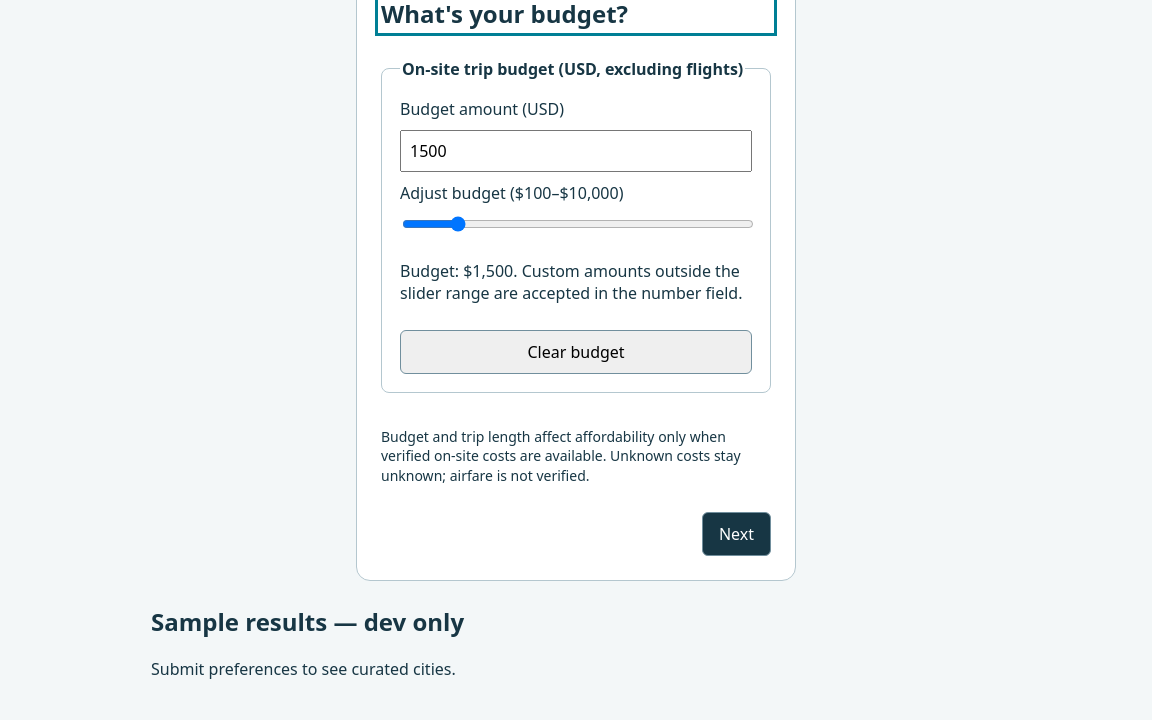
Test case: allows returning to an invalid later answer after navigating Back
(page scrolled)
Click the button "Next" at (736, 534), box [702,512,771,556]
(page scrolled)
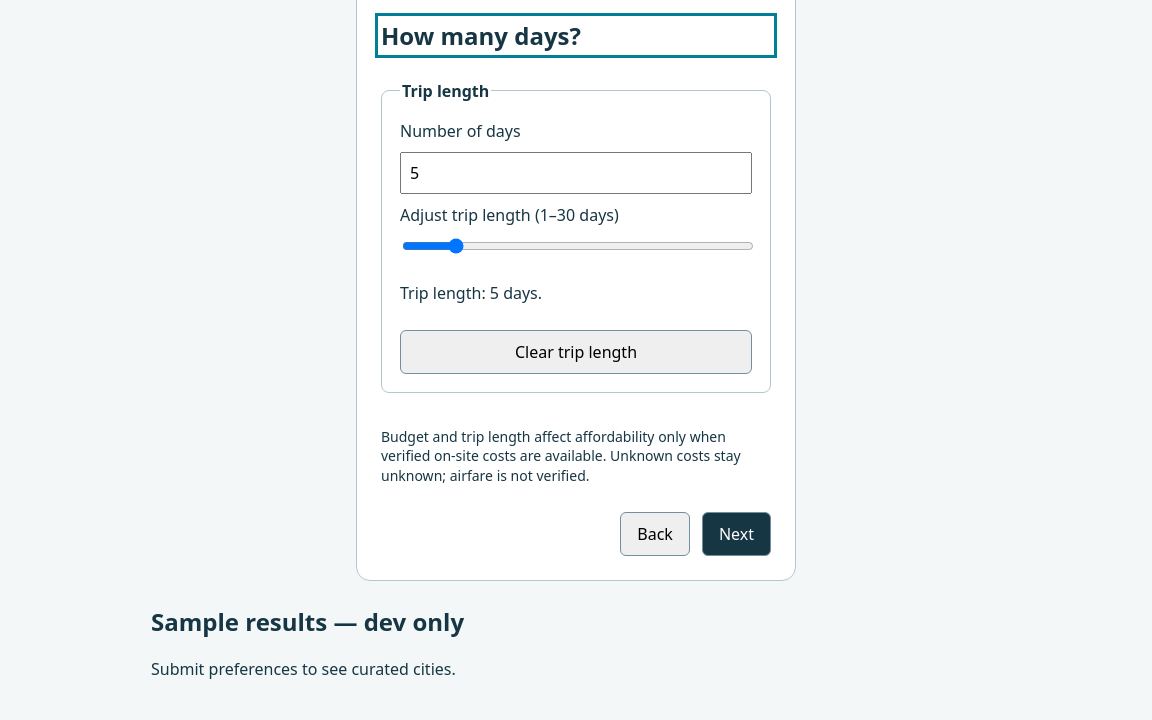
Replace the text in the number field labelled "Number of days" with "31" at (576, 173), box [400,152,752,194]
(page scrolled)
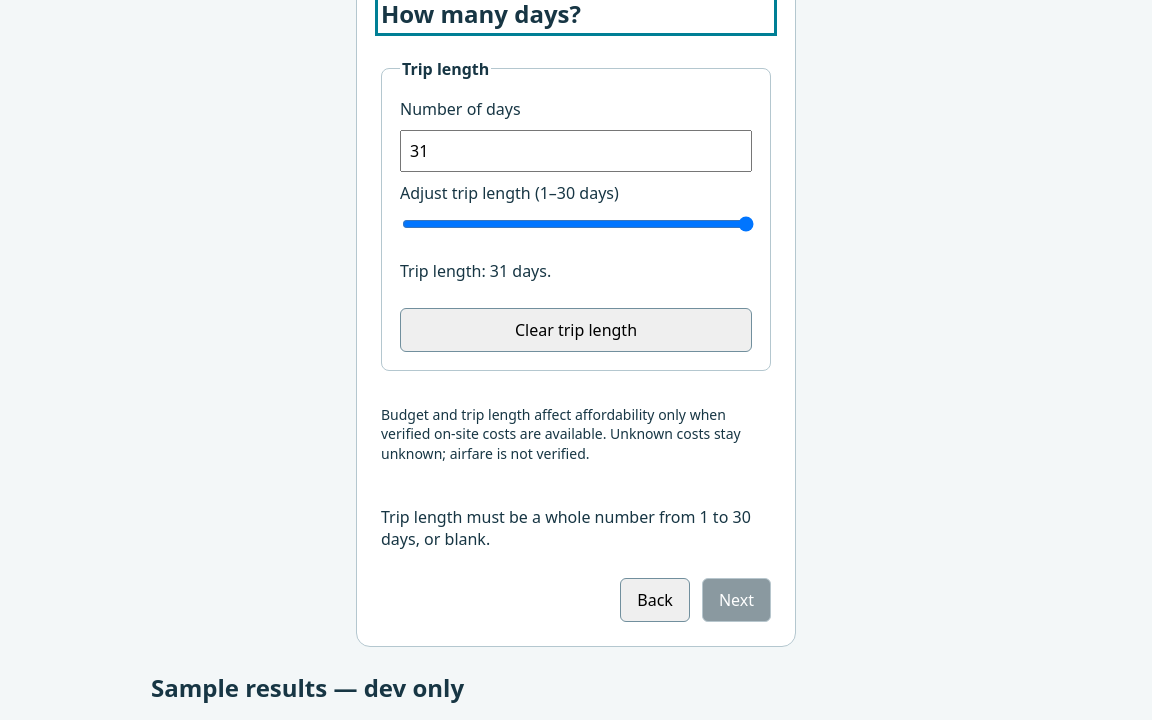
Click the button "Back" at (655, 600), box [620,578,690,622]
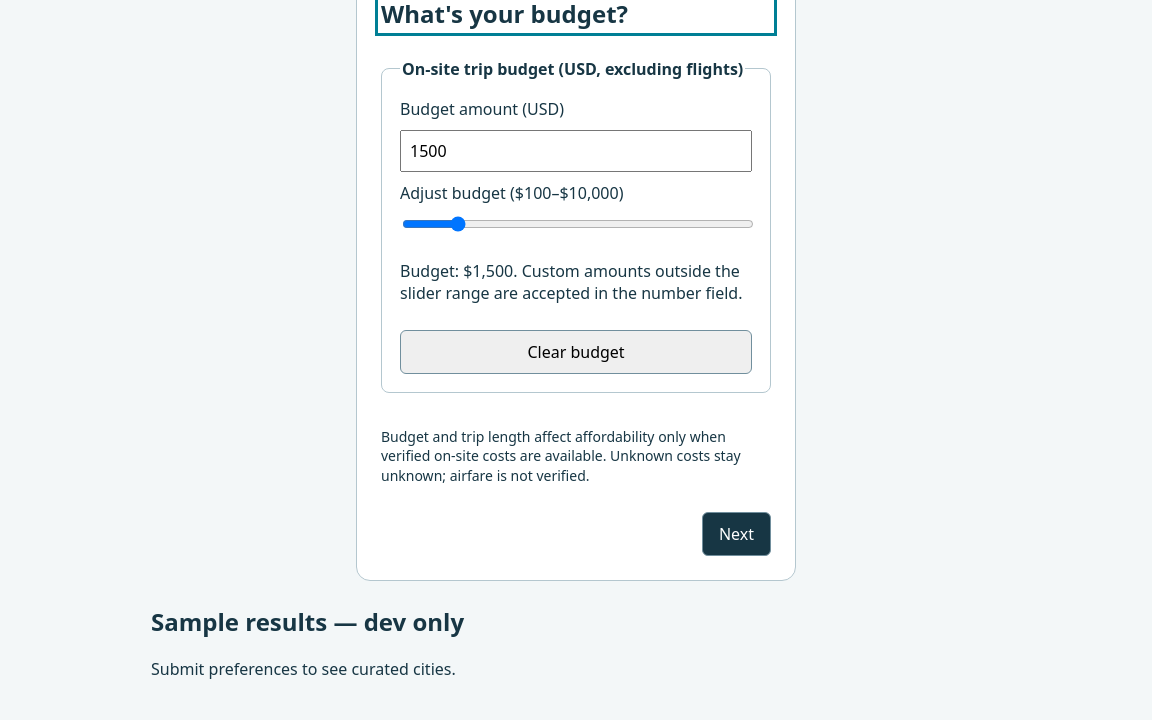
Click the button "Next" at (736, 534), box [702,512,771,556]
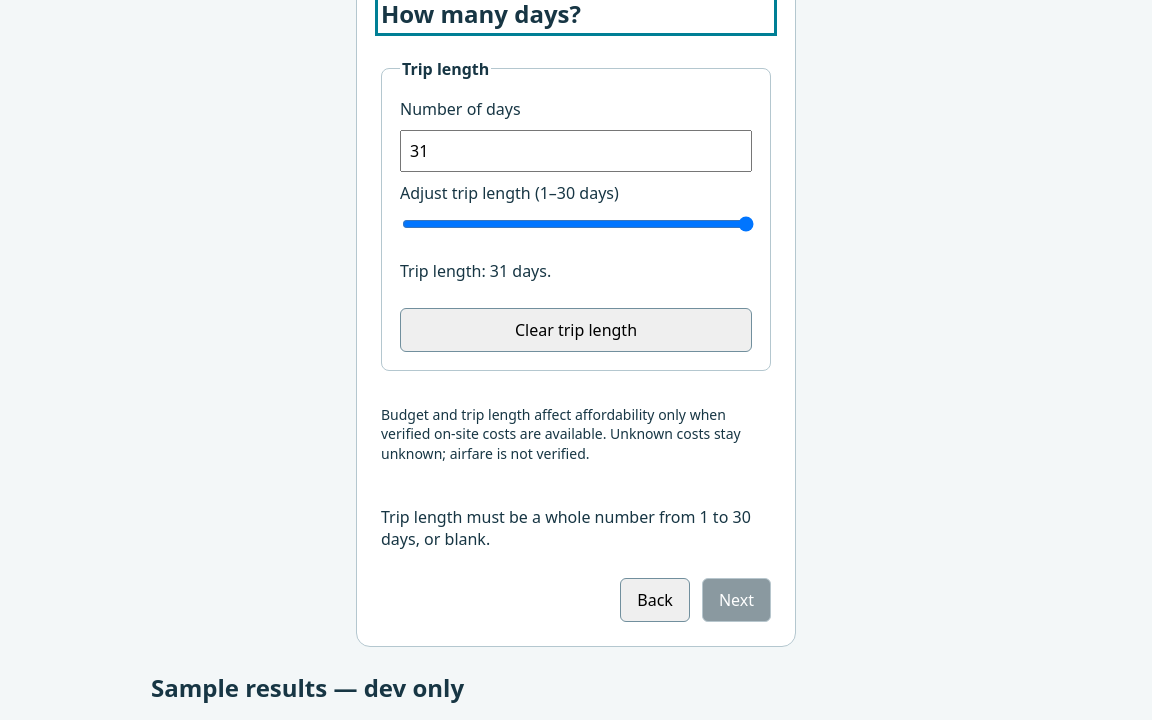
Replace the text in the number field labelled "Number of days" with "5" at (576, 151), box [400,130,752,172]
(page scrolled)
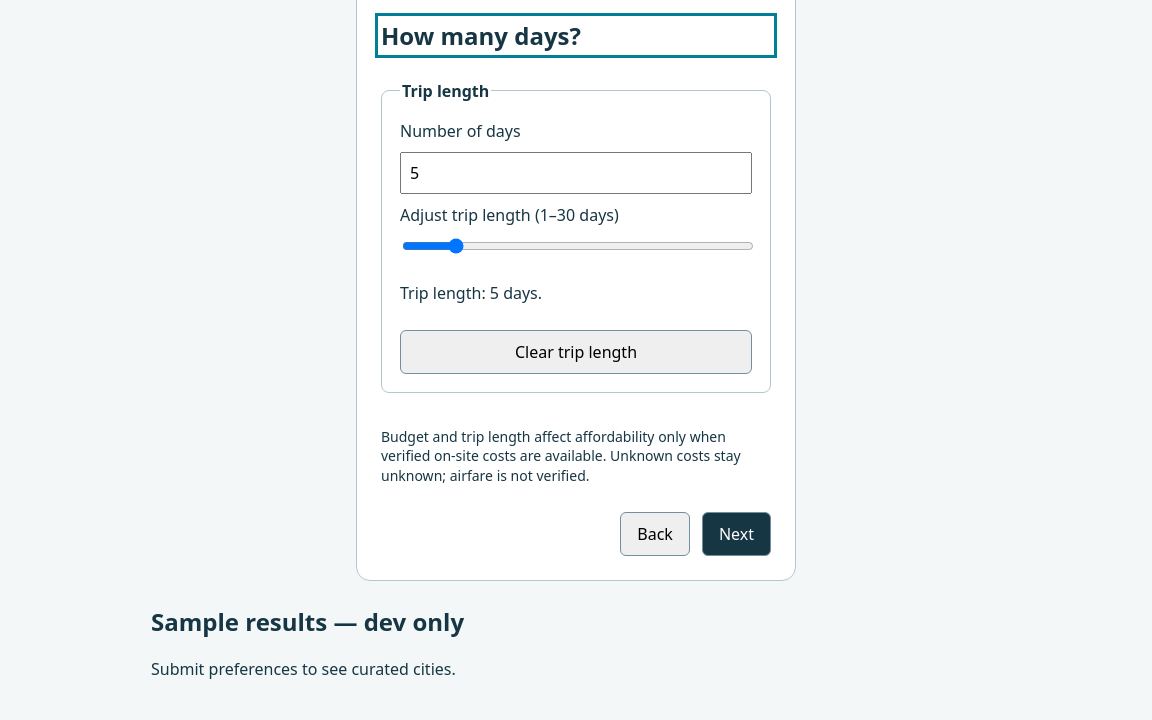
Click the button "Next" at (736, 534), box [702,512,771,556]
(page scrolled)
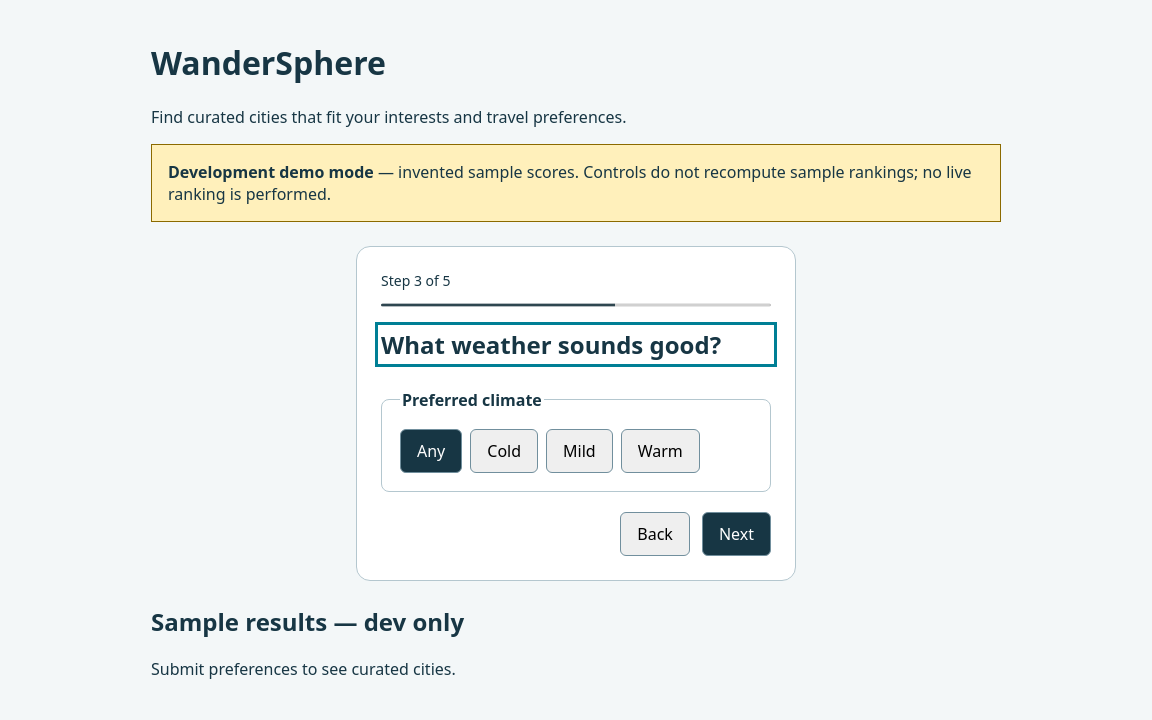
Expected: the heading "What weather sounds good?" is shown, [381,328,771,361]
